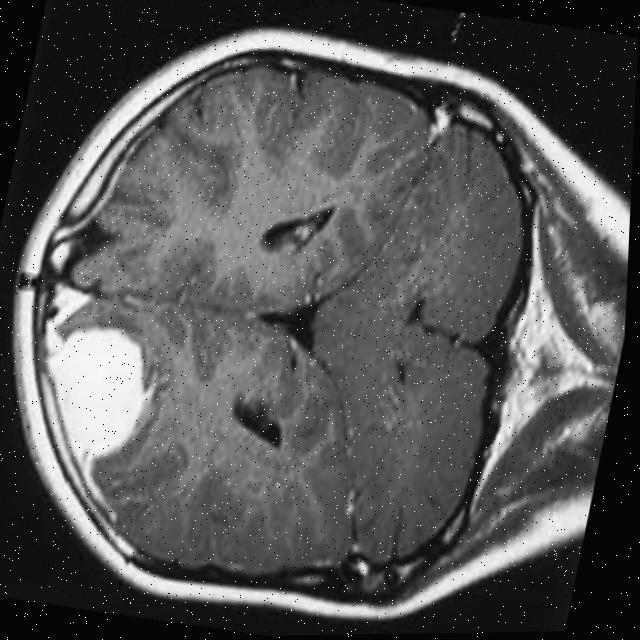Meningioma: (5, 313, 167, 527)
